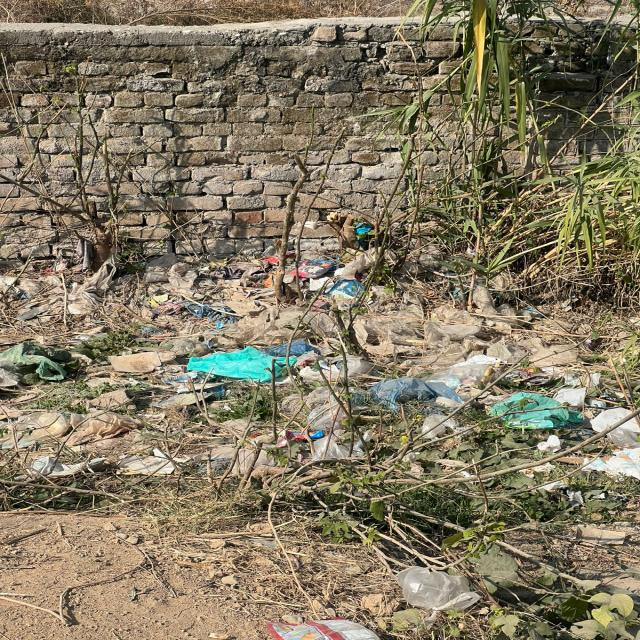garbage: (2, 245, 640, 490)
